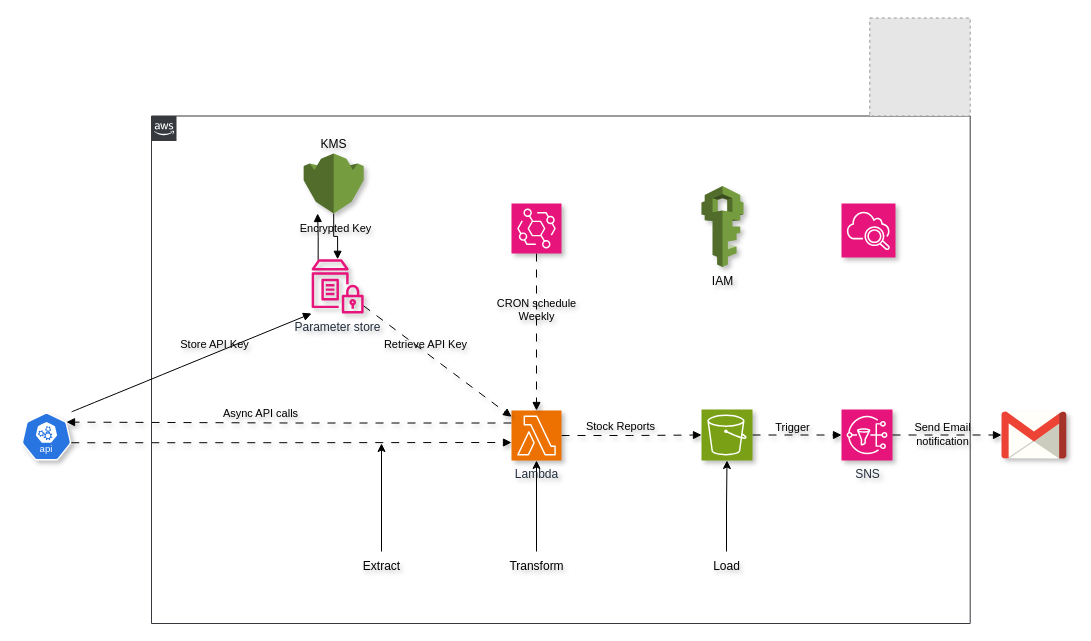
Some shapes in this 1091 by 641 pixel diagram are drawn without their labels. Grey dashed boxes stand in for pictures. The centre of each missing label's shape, as x and y in pixels:
"Cloudwatch" belongs at (x=869, y=231).
"Eventbridge" belongs at (x=537, y=229).
"S3 bucket" belongs at (x=728, y=436).
